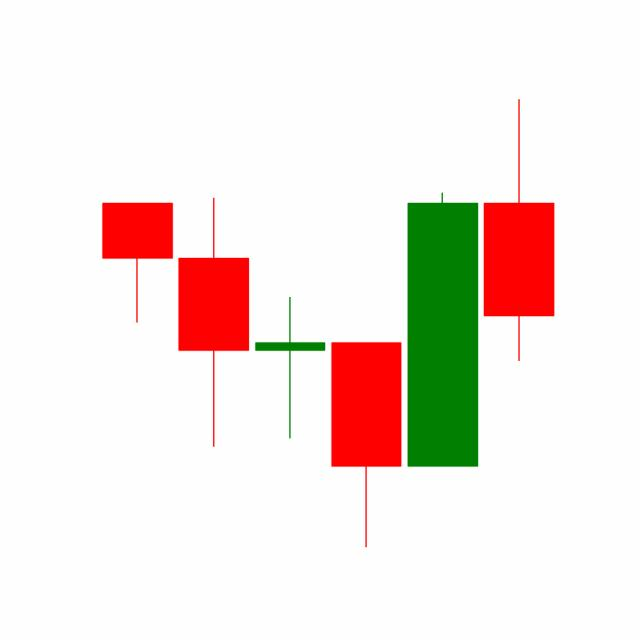Marubozu: (403, 189, 481, 468)
